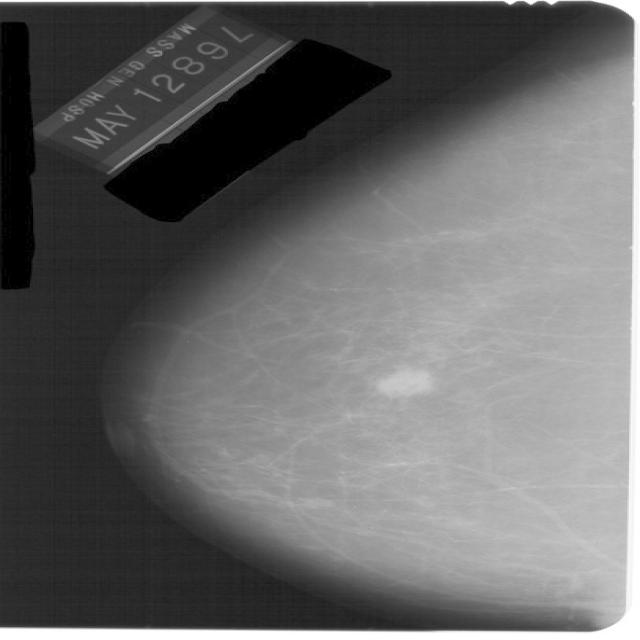tumour: (373, 366, 431, 398)
